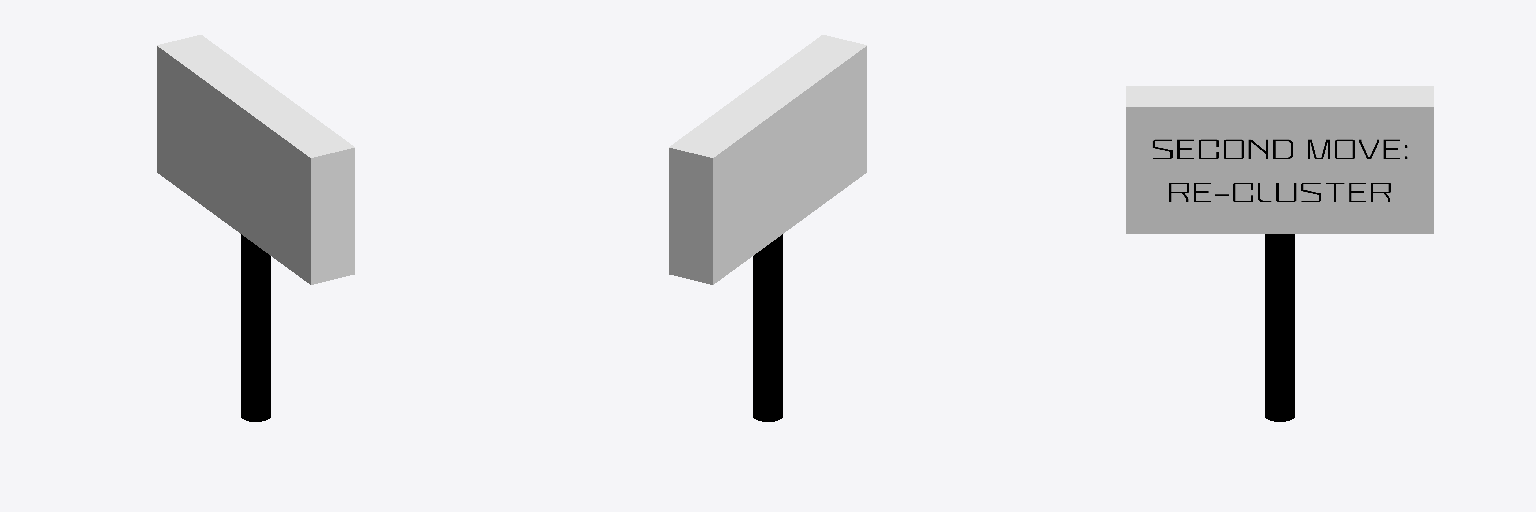
The picture shows the model from 3 angles: view 1: azimuth 30°, elevation 25°; view 2: azimuth 150°, elevation 25°; view 3: azimuth 270°, elevation 25°; orthographic projection.
Parts seen in each view (by area): view 1: pCube1, pCylinder1; view 2: pCube1, pCylinder1; view 3: pCube1, pCylinder1.
Boxes of the visible parts, x1,y1,x2,y2 form: pCube1: [157, 35, 354, 284]; pCylinder1: [241, 234, 270, 421]; pCube1: [669, 35, 866, 284]; pCylinder1: [753, 234, 782, 421]; pCube1: [1126, 86, 1433, 233]; pCylinder1: [1265, 234, 1294, 421].
Size of the model in its own units: 1 by 6.84 by 5.99.
Materials: 3 (1 with a texture image).